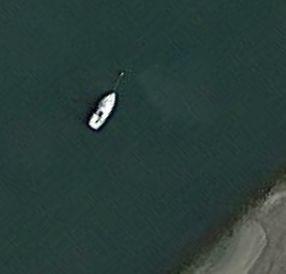boat: (88, 90, 119, 133)
